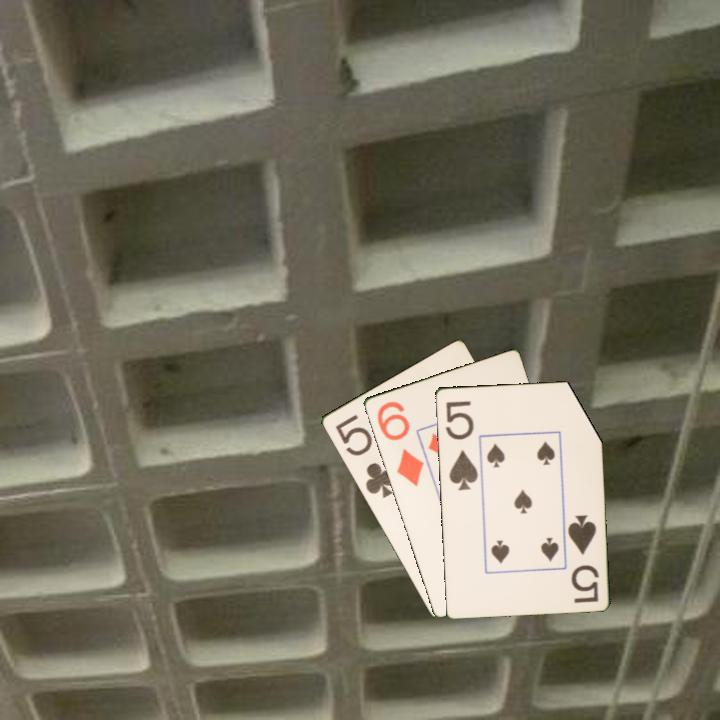5c: (331, 411, 399, 501)
5s: (442, 397, 481, 493), (564, 511, 601, 606)
6d: (373, 397, 427, 489)
